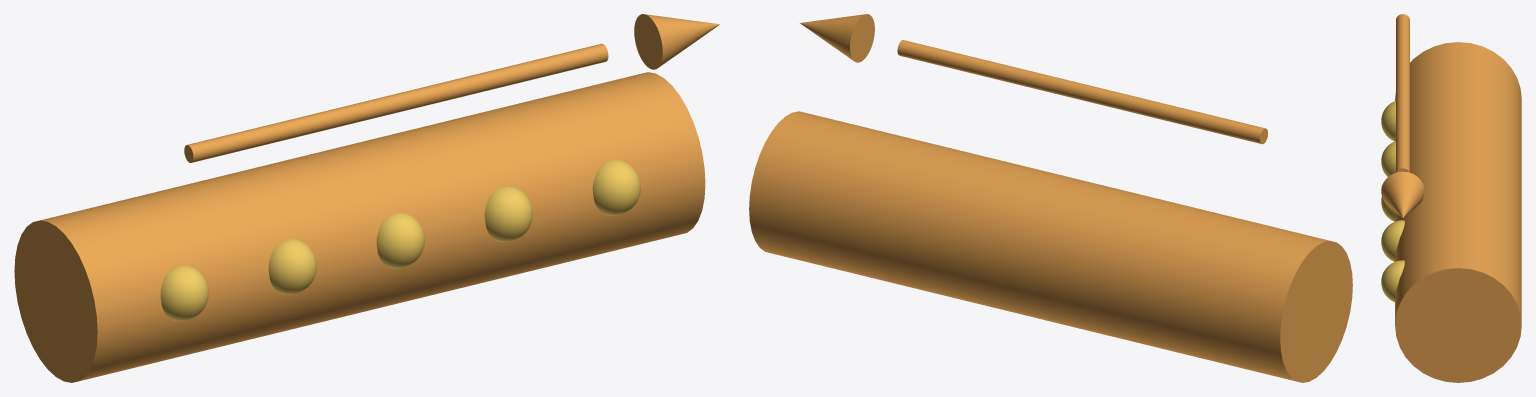
Rendered from bio-p1-phloem.glb.
3 views of the same model, side by side, from view 1: azimuth 30°, elevation 25°; view 2: azimuth 150°, elevation 25°; view 3: azimuth 270°, elevation 25° (orthographic). The views are drawn at different scales.
Parts seen in each view (by area): view 1: phloem-sugar-transport-tube, food-moves-both-ways-arrow-shaft, food-moves-both-ways-arrow-head, sugar-flow-particle-0, sugar-flow-particle-2, sugar-flow-particle-1, sugar-flow-particle-4, sugar-flow-particle-3; view 2: phloem-sugar-transport-tube, food-moves-both-ways-arrow-shaft, food-moves-both-ways-arrow-head; view 3: phloem-sugar-transport-tube, food-moves-both-ways-arrow-shaft, food-moves-both-ways-arrow-head, sugar-flow-particle-4, sugar-flow-particle-3, sugar-flow-particle-0, sugar-flow-particle-1, sugar-flow-particle-2.
Boxes of the visible parts, <box> form: phloem-sugar-transport-tube: <box>14,72,705,382</box>; food-moves-both-ways-arrow-shaft: <box>184,43,608,162</box>; food-moves-both-ways-arrow-head: <box>634,14,719,69</box>; sugar-flow-particle-0: <box>160,265,208,321</box>; sugar-flow-particle-2: <box>376,212,424,268</box>; sugar-flow-particle-1: <box>268,239,316,294</box>; sugar-flow-particle-4: <box>592,160,640,215</box>; sugar-flow-particle-3: <box>484,186,532,242</box>; phloem-sugar-transport-tube: <box>749,111,1352,382</box>; food-moves-both-ways-arrow-shaft: <box>897,40,1267,144</box>; food-moves-both-ways-arrow-head: <box>800,14,874,62</box>; phloem-sugar-transport-tube: <box>1395,42,1521,382</box>; food-moves-both-ways-arrow-shaft: <box>1396,14,1409,172</box>; food-moves-both-ways-arrow-head: <box>1381,171,1424,217</box>; sugar-flow-particle-4: <box>1381,260,1404,302</box>; sugar-flow-particle-3: <box>1381,220,1404,261</box>; sugar-flow-particle-0: <box>1381,101,1395,141</box>; sugar-flow-particle-1: <box>1381,141,1395,176</box>; sugar-flow-particle-2: <box>1381,197,1395,221</box>.
Size of what is drawn, in the model's own units: 1.4 by 0.535 by 0.355.
